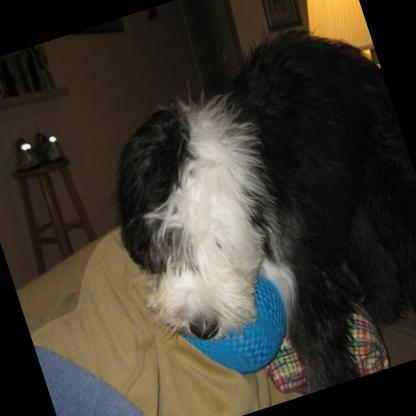Old_English_sheepdog: (73, 2, 416, 416)
